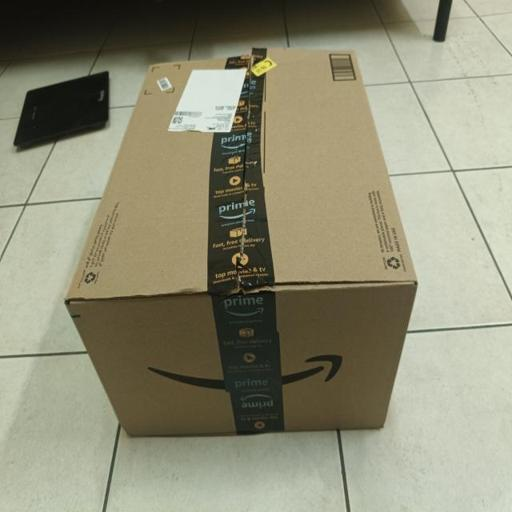Amazon: (67, 47, 418, 437)
